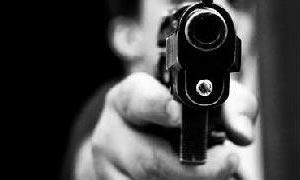gun: (155, 1, 245, 167)
